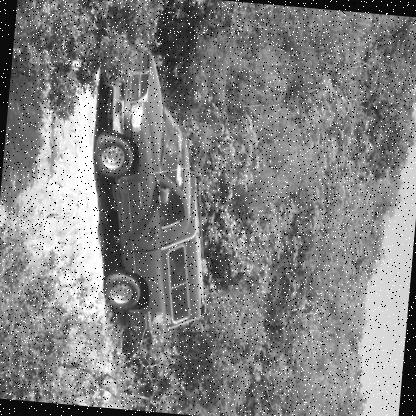Car: (77, 49, 228, 334)
